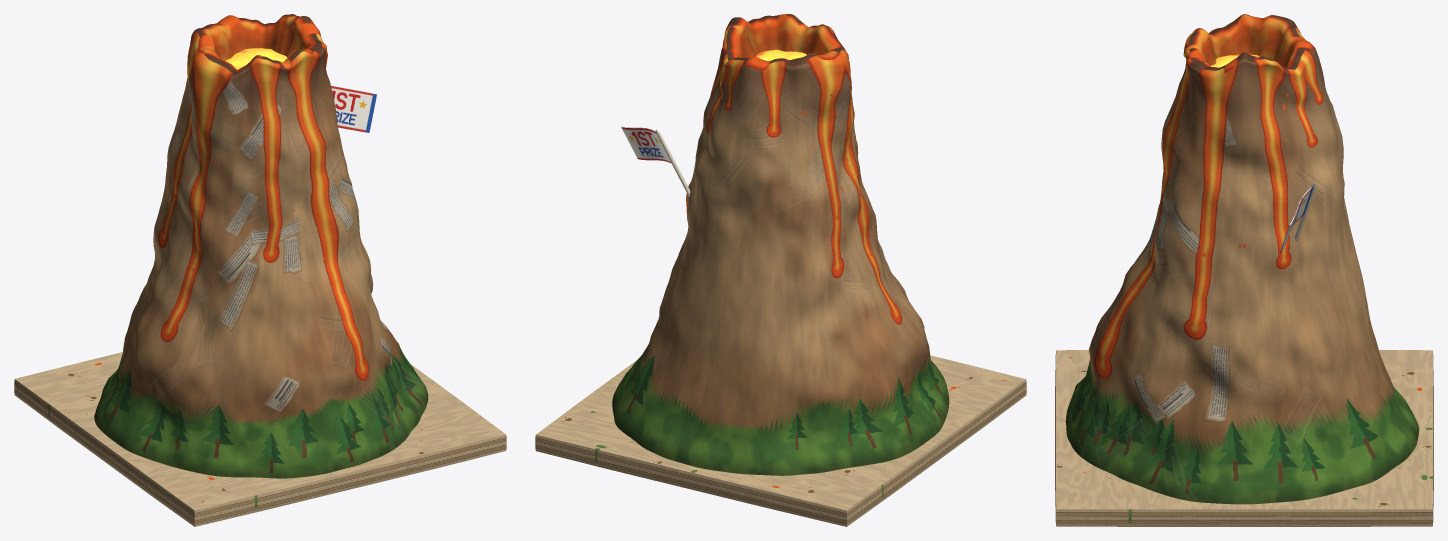
The model's file is volcano.glb.
The picture shows the model from 3 angles, left to right: view 1: azimuth 30°, elevation 25°; view 2: azimuth 150°, elevation 25°; view 3: azimuth 270°, elevation 25°; orthographic projection. The views are drawn at different scales.
Visible parts, largest first — view 1: volcano; view 2: volcano; view 3: volcano.
Part boxes in pixels (x1,y1,x2,y2): volcano: (14,14,506,526); volcano: (535,14,1026,526); volcano: (1055,14,1433,526).
Size of the model in its own units: 0.8 by 0.9691 by 0.8.
Materials: 5 (4 with a texture image).
